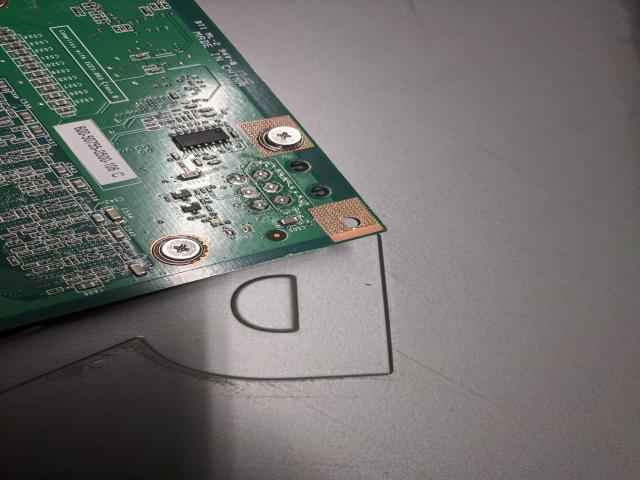CRS: (262, 125, 304, 148), (160, 238, 200, 260)
